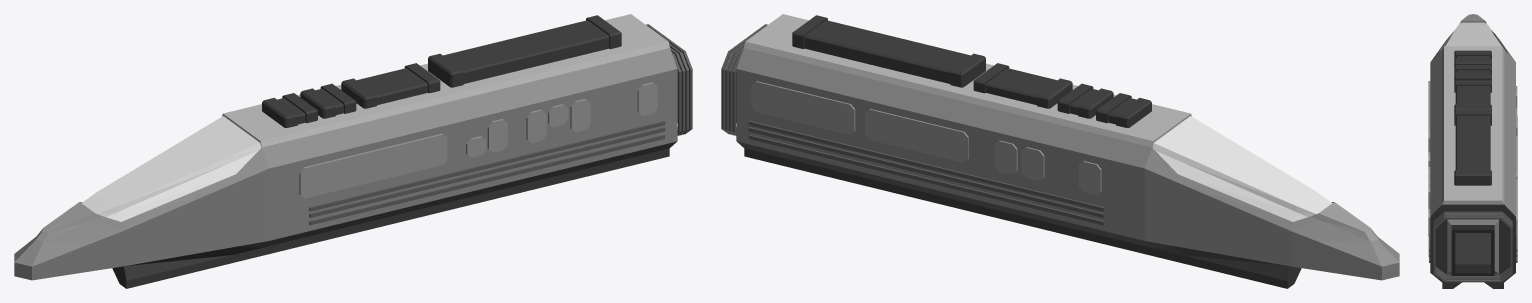
File: train_engine.FBX
The picture shows the model from 3 angles, left to right: view 1: azimuth 30°, elevation 25°; view 2: azimuth 150°, elevation 25°; view 3: azimuth 270°, elevation 25°; orthographic projection. The views are drawn at different scales.
Parts seen in each view (by area): view 1: train_engine, train_engine_glass; view 2: train_engine, train_engine_glass; view 3: train_engine, train_engine_glass.
Boxes of the visible parts, x1,y1,x2,y2 form: train_engine: [14, 14, 692, 288]; train_engine_glass: [81, 116, 261, 221]; train_engine: [721, 14, 1399, 288]; train_engine_glass: [1152, 116, 1332, 221]; train_engine: [1428, 14, 1517, 288]; train_engine_glass: [1441, 22, 1504, 50].
Bounding box in the file's own units: 1592 × 299 × 243.
